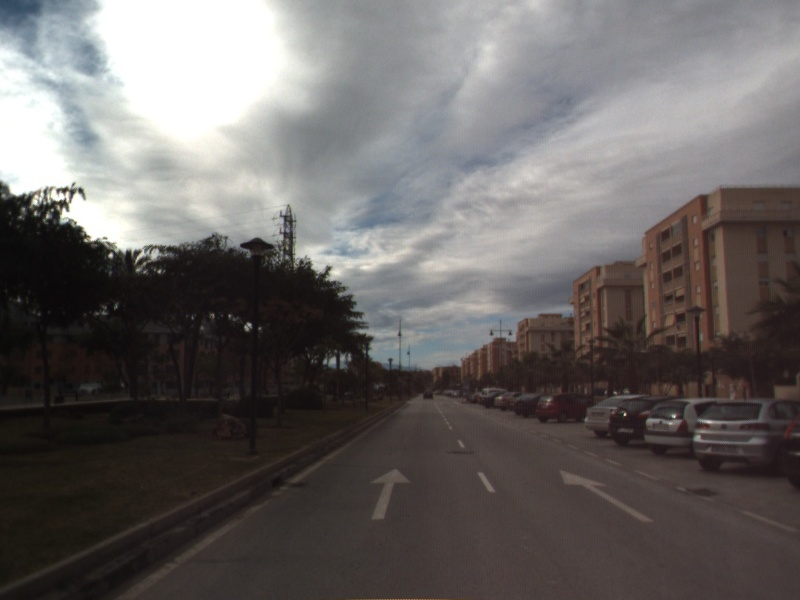STRAIGHT: (559, 468, 656, 524), (368, 466, 414, 521)
